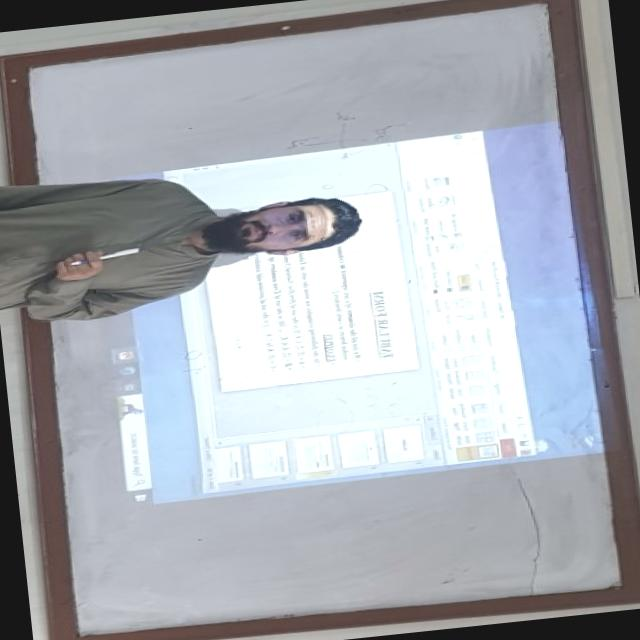Instructor: (0, 148, 382, 318)
Slide: (70, 119, 630, 511)
White-board: (9, 0, 638, 640)
